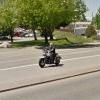Motorcycle: (34, 47, 67, 72)
